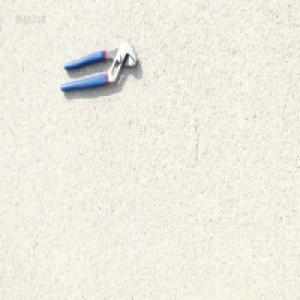Pliers: (58, 38, 138, 94)
